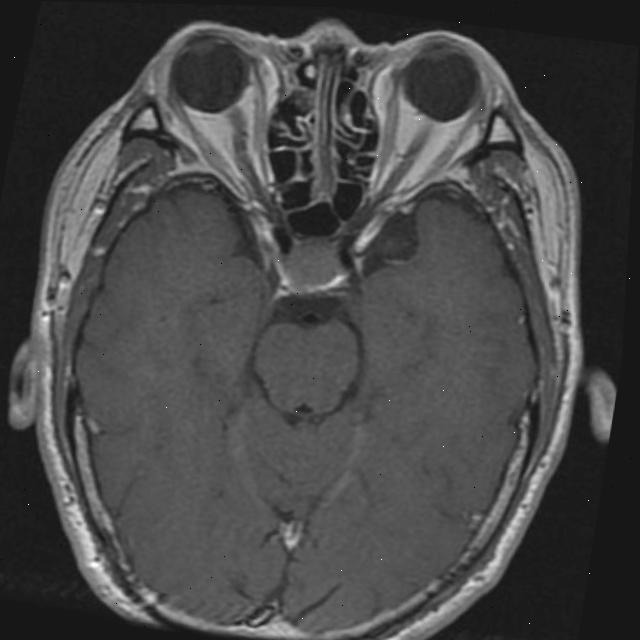Pituitary: (282, 231, 353, 294)
